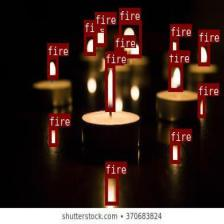fire: (118, 20, 140, 57), (105, 64, 115, 110), (168, 62, 182, 91), (105, 174, 118, 204), (83, 32, 95, 56), (198, 42, 210, 66), (94, 24, 106, 46), (47, 56, 58, 78), (170, 141, 180, 163), (48, 126, 57, 147), (197, 96, 205, 117), (114, 48, 123, 64), (170, 36, 178, 53)
